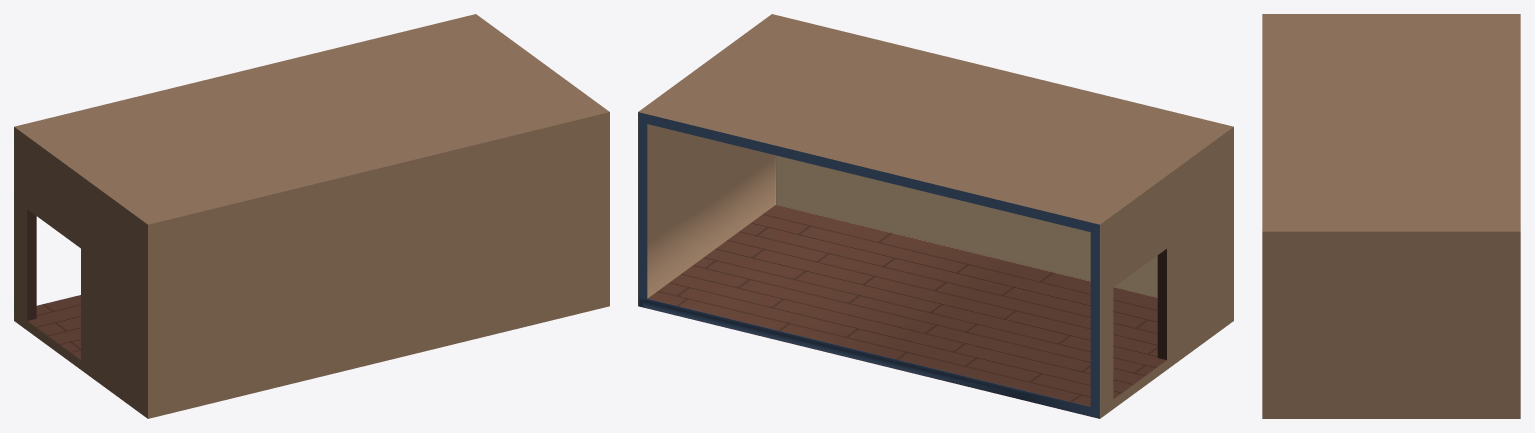
File: DoubleRoom_1door_FBX.fbx
3 views of the same model, side by side, from view 1: azimuth 30°, elevation 25°; view 2: azimuth 150°, elevation 25°; view 3: azimuth 270°, elevation 25° (orthographic). The views are drawn at different scales.
Parts seen in each view (by area): view 1: Object; view 2: Object; view 3: Object.
Part boxes in pixels (x1,y1,x2,y2): Object: (14, 14, 609, 418); Object: (638, 14, 1233, 418); Object: (1262, 14, 1520, 418).
Size of the model in its own units: 996 by 400 by 500.
